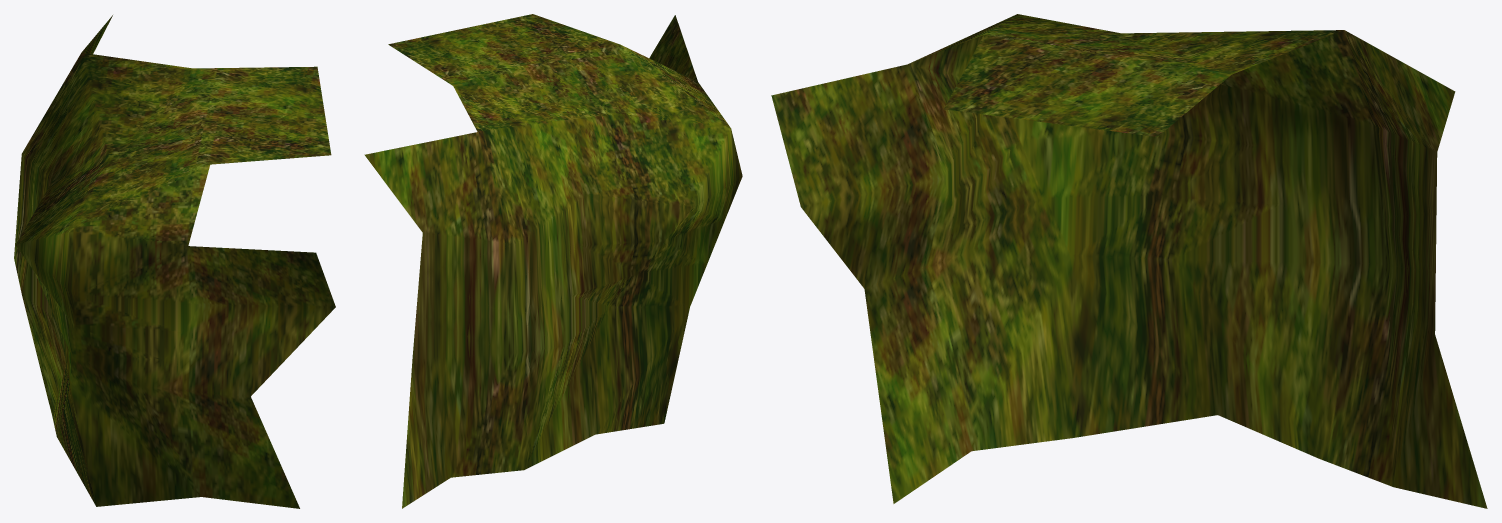
The model's file is TROLLHOLE02_RM_PSURF188.fbx.
3 views of the same model, side by side, from view 1: azimuth 30°, elevation 25°; view 2: azimuth 150°, elevation 25°; view 3: azimuth 270°, elevation 25° (orthographic). The views are drawn at different scales.
Parts seen in each view (by area): view 1: TROLLHOLE02_RM_PSURF188; view 2: TROLLHOLE02_RM_PSURF188; view 3: TROLLHOLE02_RM_PSURF188.
Boxes of the visible parts, x1,y1,x2,y2 form: TROLLHOLE02_RM_PSURF188: (14,15,335,508); TROLLHOLE02_RM_PSURF188: (364,14,742,508); TROLLHOLE02_RM_PSURF188: (771,14,1487,508).
Bounding box in the file's own units: 42091 × 46473 × 64896.
1 material, 1 textured.
